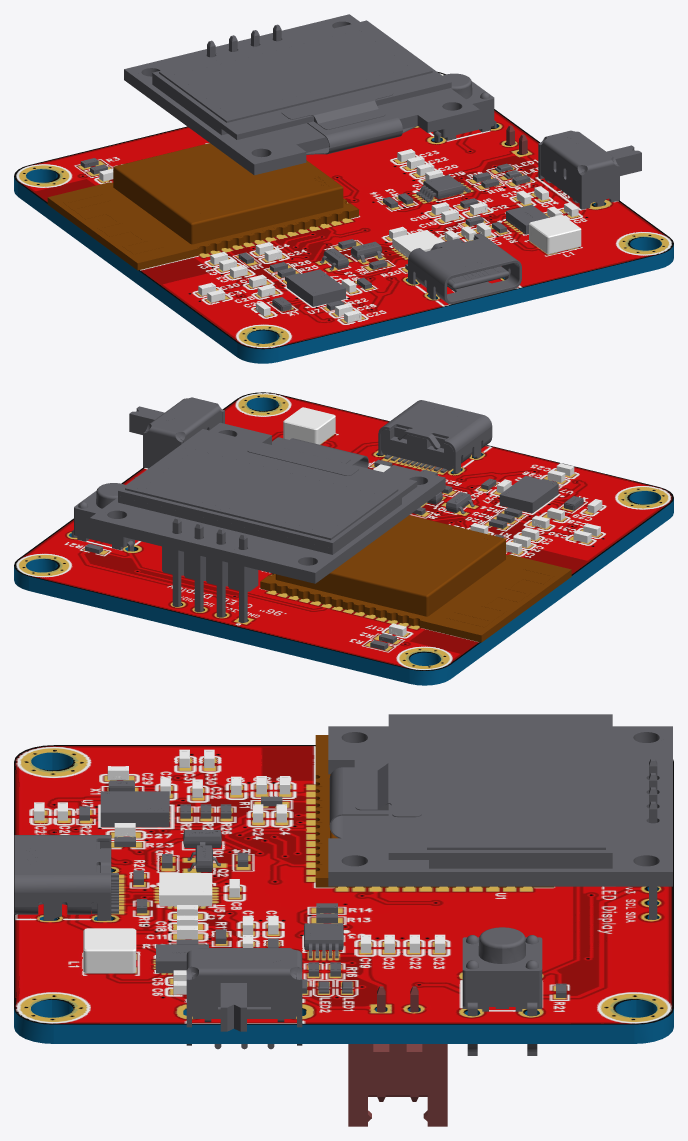
File: board.glb
3 renders of one model, top to bottom at view 1: azimuth 30°, elevation 25°; view 2: azimuth 150°, elevation 25°; view 3: azimuth 270°, elevation 25°, orthographic. The views are drawn at different scales.
Visible parts, largest first — view 1: Board-mesh, U1-mesh (×8), U4-mesh, USBC1-mesh, SW1-mesh (×2), SW2-mesh, L1-mesh, U7-mesh, U3-mesh, U5-mesh, U2-mesh; view 2: Board-mesh, U1-mesh (×10), U4-mesh, USBC1-mesh, SW1-mesh (×2), SW2-mesh, L1-mesh, U7-mesh; view 3: Board-mesh, U1-mesh (×9), SW1-mesh (×2), USBC1-mesh, CN1-mesh, SW2-mesh, U4-mesh, L1-mesh, U7-mesh, U5-mesh, U3-mesh, U2-mesh (+1 smaller).
Part boxes in pixels (x1,y1,x2,y2): Board-mesh: [14, 71, 673, 363]; U1-mesh (×8): [124, 14, 479, 175]; U4-mesh: [47, 143, 358, 270]; USBC1-mesh: [408, 233, 521, 304]; SW1-mesh (×2): [538, 130, 641, 209]; SW2-mesh: [433, 73, 496, 141]; L1-mesh: [529, 215, 581, 254]; U7-mesh: [287, 269, 345, 305]; U3-mesh: [416, 175, 470, 202]; U5-mesh: [392, 230, 442, 257]; U2-mesh: [506, 204, 548, 234]; Board-mesh: [14, 392, 673, 685]; U1-mesh (×10): [90, 422, 445, 592]; U4-mesh: [260, 515, 571, 642]; USBC1-mesh: [378, 400, 492, 473]; SW1-mesh (×2): [129, 397, 224, 468]; SW2-mesh: [71, 483, 134, 551]; L1-mesh: [283, 407, 335, 444]; U7-mesh: [499, 475, 558, 512]; Board-mesh: [14, 745, 673, 1043]; U1-mesh (×9): [328, 714, 672, 886]; SW1-mesh (×2): [186, 948, 302, 1045]; USBC1-mesh: [14, 835, 118, 920]; CN1-mesh: [348, 986, 447, 1126]; SW2-mesh: [462, 927, 542, 1055]; U4-mesh: [315, 735, 554, 887]; L1-mesh: [83, 928, 136, 973]; U7-mesh: [100, 791, 169, 825]; U5-mesh: [159, 873, 212, 906]; U3-mesh: [304, 923, 343, 958]; U2-mesh: [155, 944, 208, 973].
Size of the model in its own units: 0.054 by 0.0182 by 0.0498.
7 materials, 2 textured.
